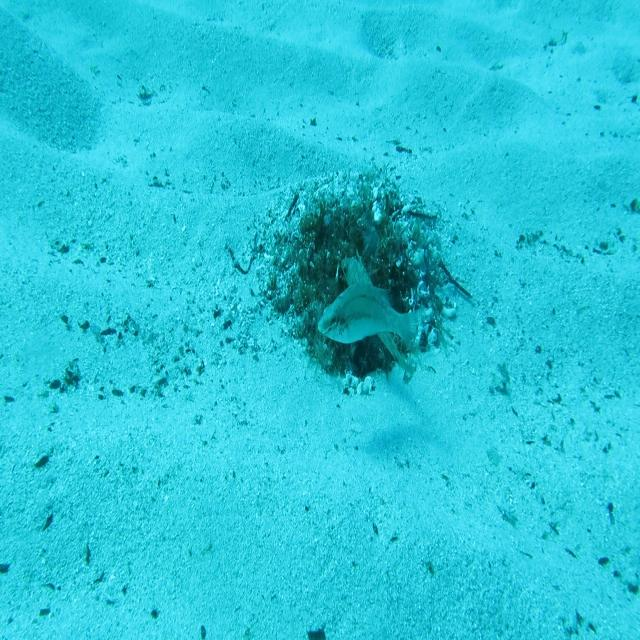ROLL: (337, 248, 417, 374)
core_nest: (328, 224, 374, 258)
female: (314, 279, 428, 370)
nest: (252, 153, 466, 407)
vegetation: (307, 623, 327, 640)
